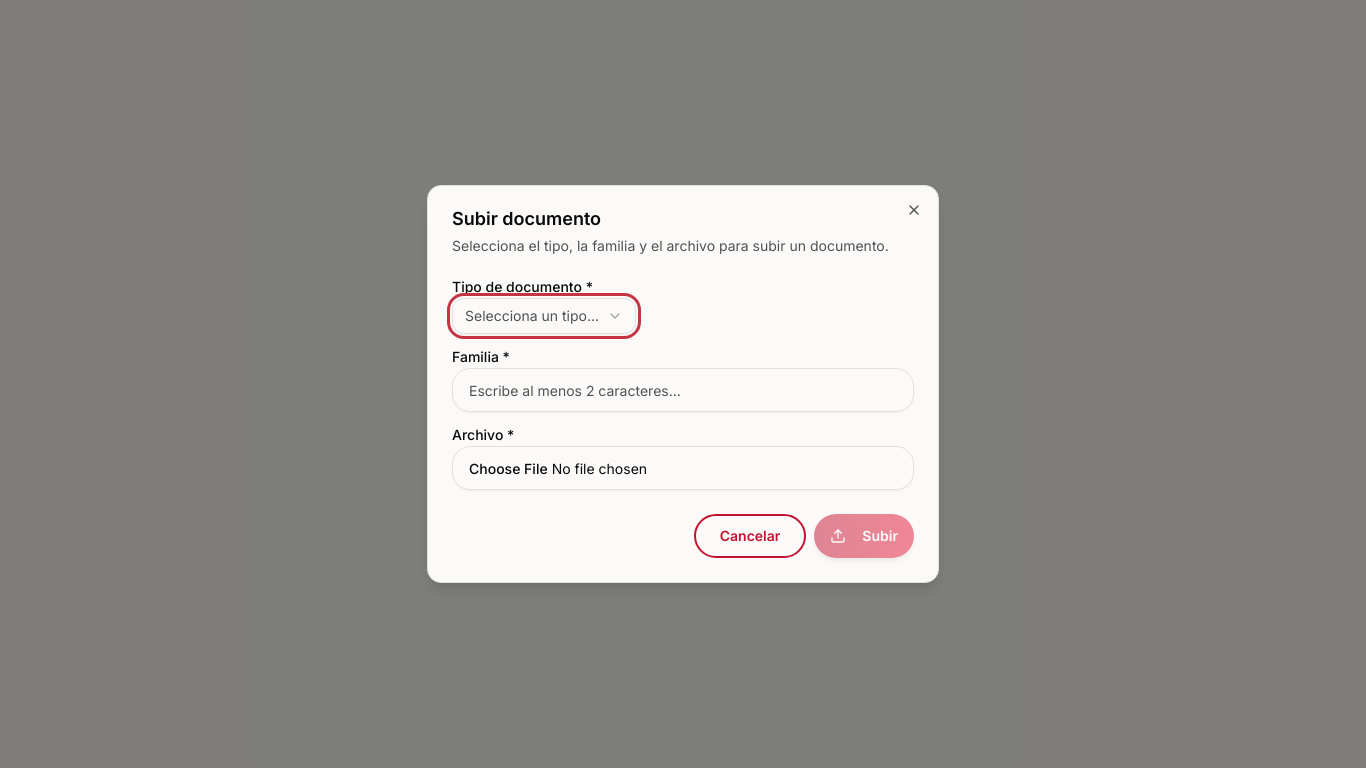
Test case: UploadModal › 5. populates Tipo dropdown from useProgramDocumentTypes
The image size is (1366, 768).
What coordinates should you click on to do the following:
click the dropdown named "Tipo de documento"
I would click on:
 (544, 316)
Its box is [452,298,636,334].
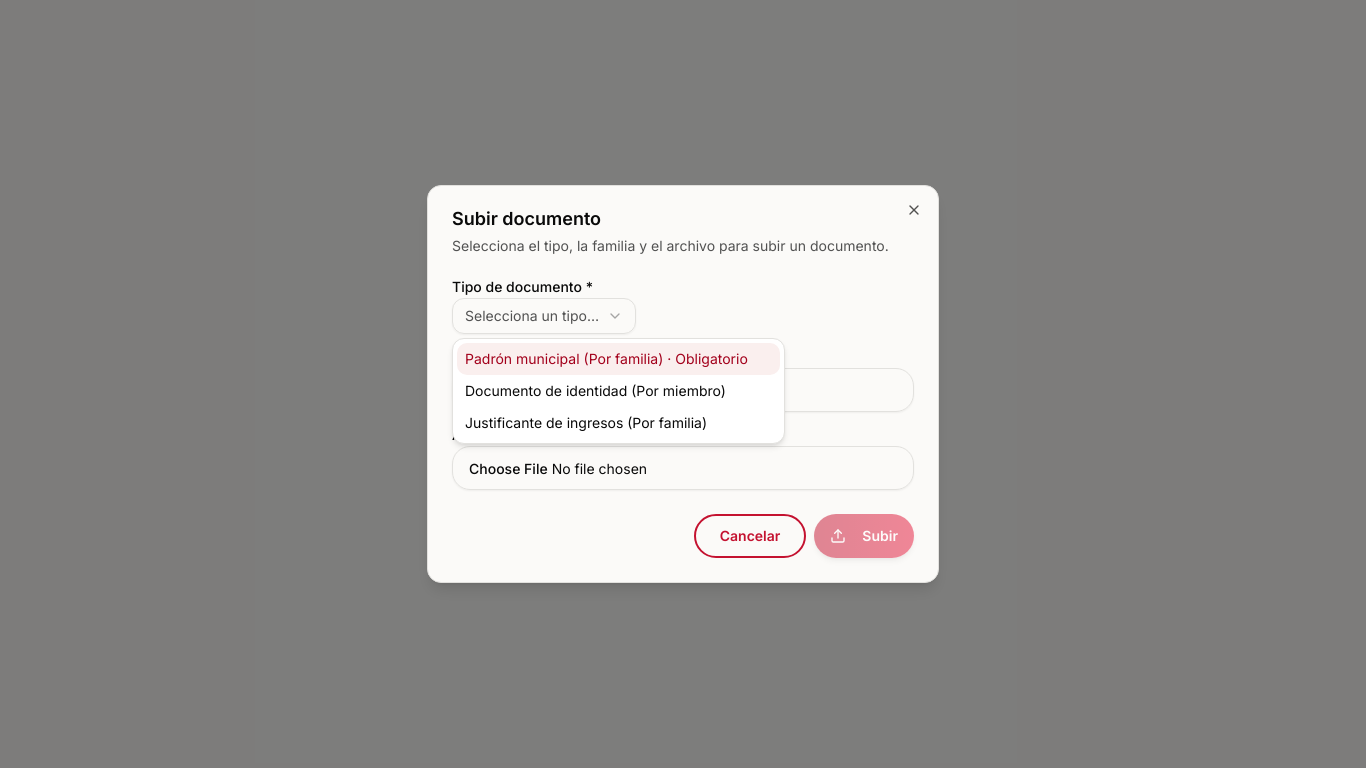
Now the text "Padrón municipal (Por familia) · Obligatorio" is shown, box [465,349,748,369]
Now the text "Documento de identidad (Por miembro)" is shown, box [465,381,726,401]
Now the text "Justificante de ingresos (Por familia)" is shown, box [465,413,707,433]
